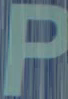Parking: (6, 1, 63, 91)
